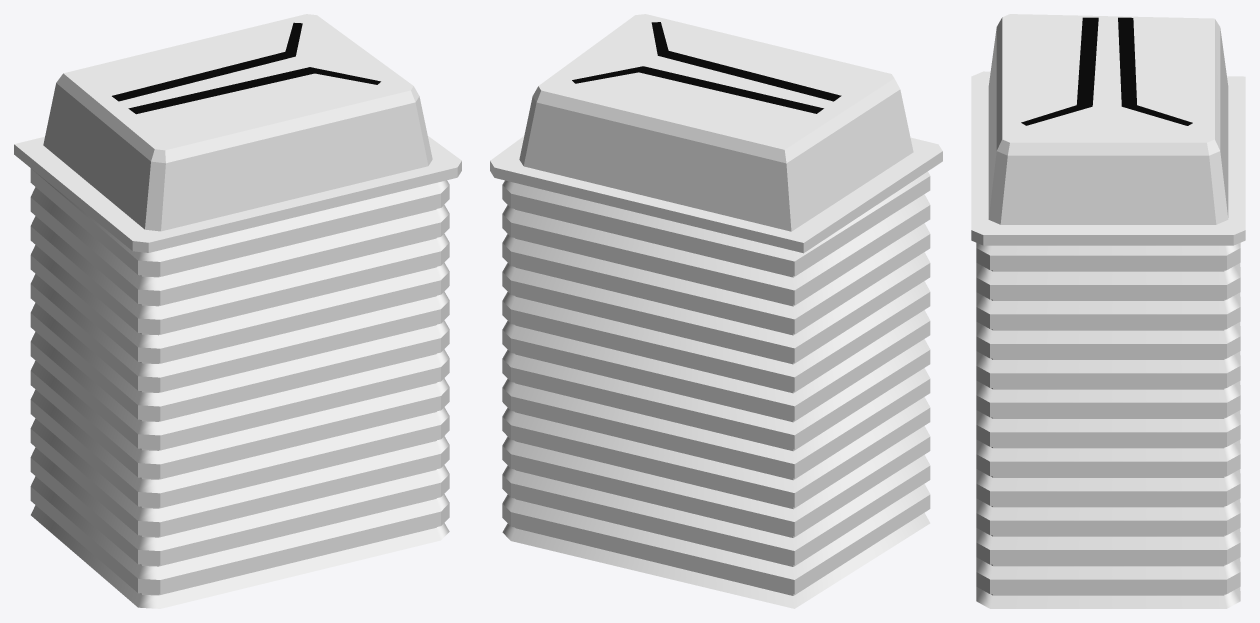
Rendered from Food_Lids_Sushi.glb.
3 views of the same model, side by side, from view 1: azimuth 30°, elevation 25°; view 2: azimuth 150°, elevation 25°; view 3: azimuth 270°, elevation 25° (orthographic).
Visible parts, largest first — view 1: sushi_bar_boxcap_geo; view 2: sushi_bar_boxcap_geo; view 3: sushi_bar_boxcap_geo.
Boxes of the visible parts, x1,y1,x2,y2 form: sushi_bar_boxcap_geo: [14, 14, 461, 608]; sushi_bar_boxcap_geo: [490, 14, 942, 608]; sushi_bar_boxcap_geo: [971, 14, 1245, 608].
Size of the model in its own units: 0.2014 by 0.2628 by 0.1427.
Materials: 1 (1 with a texture image).
